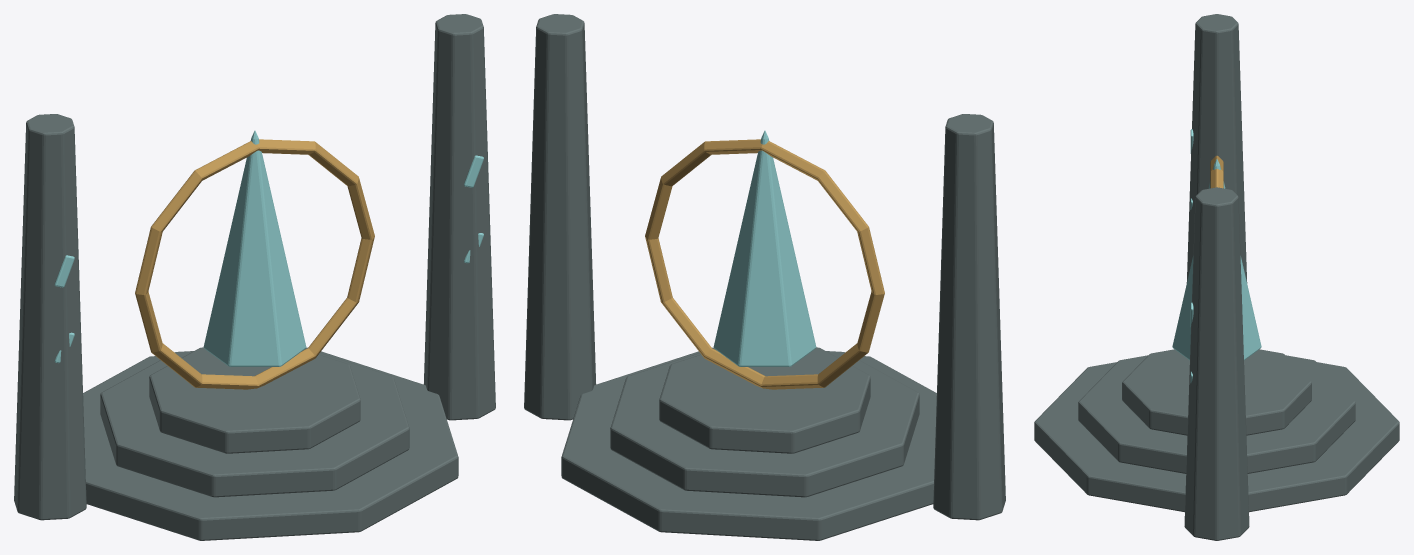
Rendered from forgotten_shrine.glb.
The picture shows the model from 3 angles, left to right: view 1: azimuth 30°, elevation 25°; view 2: azimuth 150°, elevation 25°; view 3: azimuth 270°, elevation 25°; orthographic projection. The views are drawn at different scales.
Visible parts, largest first — view 1: AltarStep, FloatingCrystal.001, SacredOrbit; view 2: AltarStep, FloatingCrystal.001, SacredOrbit; view 3: AltarStep, FloatingCrystal.001.
Boxes of the visible parts, left/top/right/bottom form: AltarStep: left=14, top=14, right=495, bottom=540; FloatingCrystal.001: left=54, top=130, right=483, bottom=366; SacredOrbit: left=135, top=139, right=374, bottom=389; AltarStep: left=524, top=14, right=1005, bottom=540; FloatingCrystal.001: left=713, top=130, right=816, bottom=366; SacredOrbit: left=645, top=139, right=884, bottom=389; AltarStep: left=1034, top=14, right=1399, bottom=540; FloatingCrystal.001: left=1172, top=129, right=1261, bottom=382.
Bounding box in the file's own units: 6.49 × 5 × 4.99.
